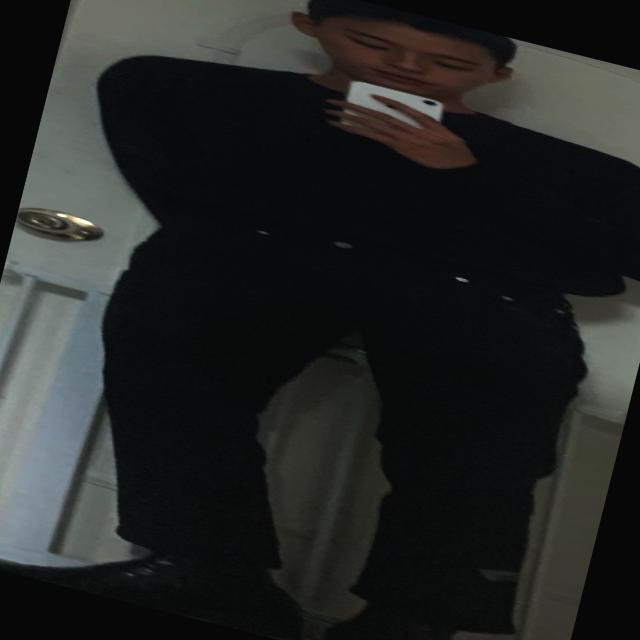cottonpants: (63, 190, 613, 640)
longsleeve: (70, 18, 640, 340)
